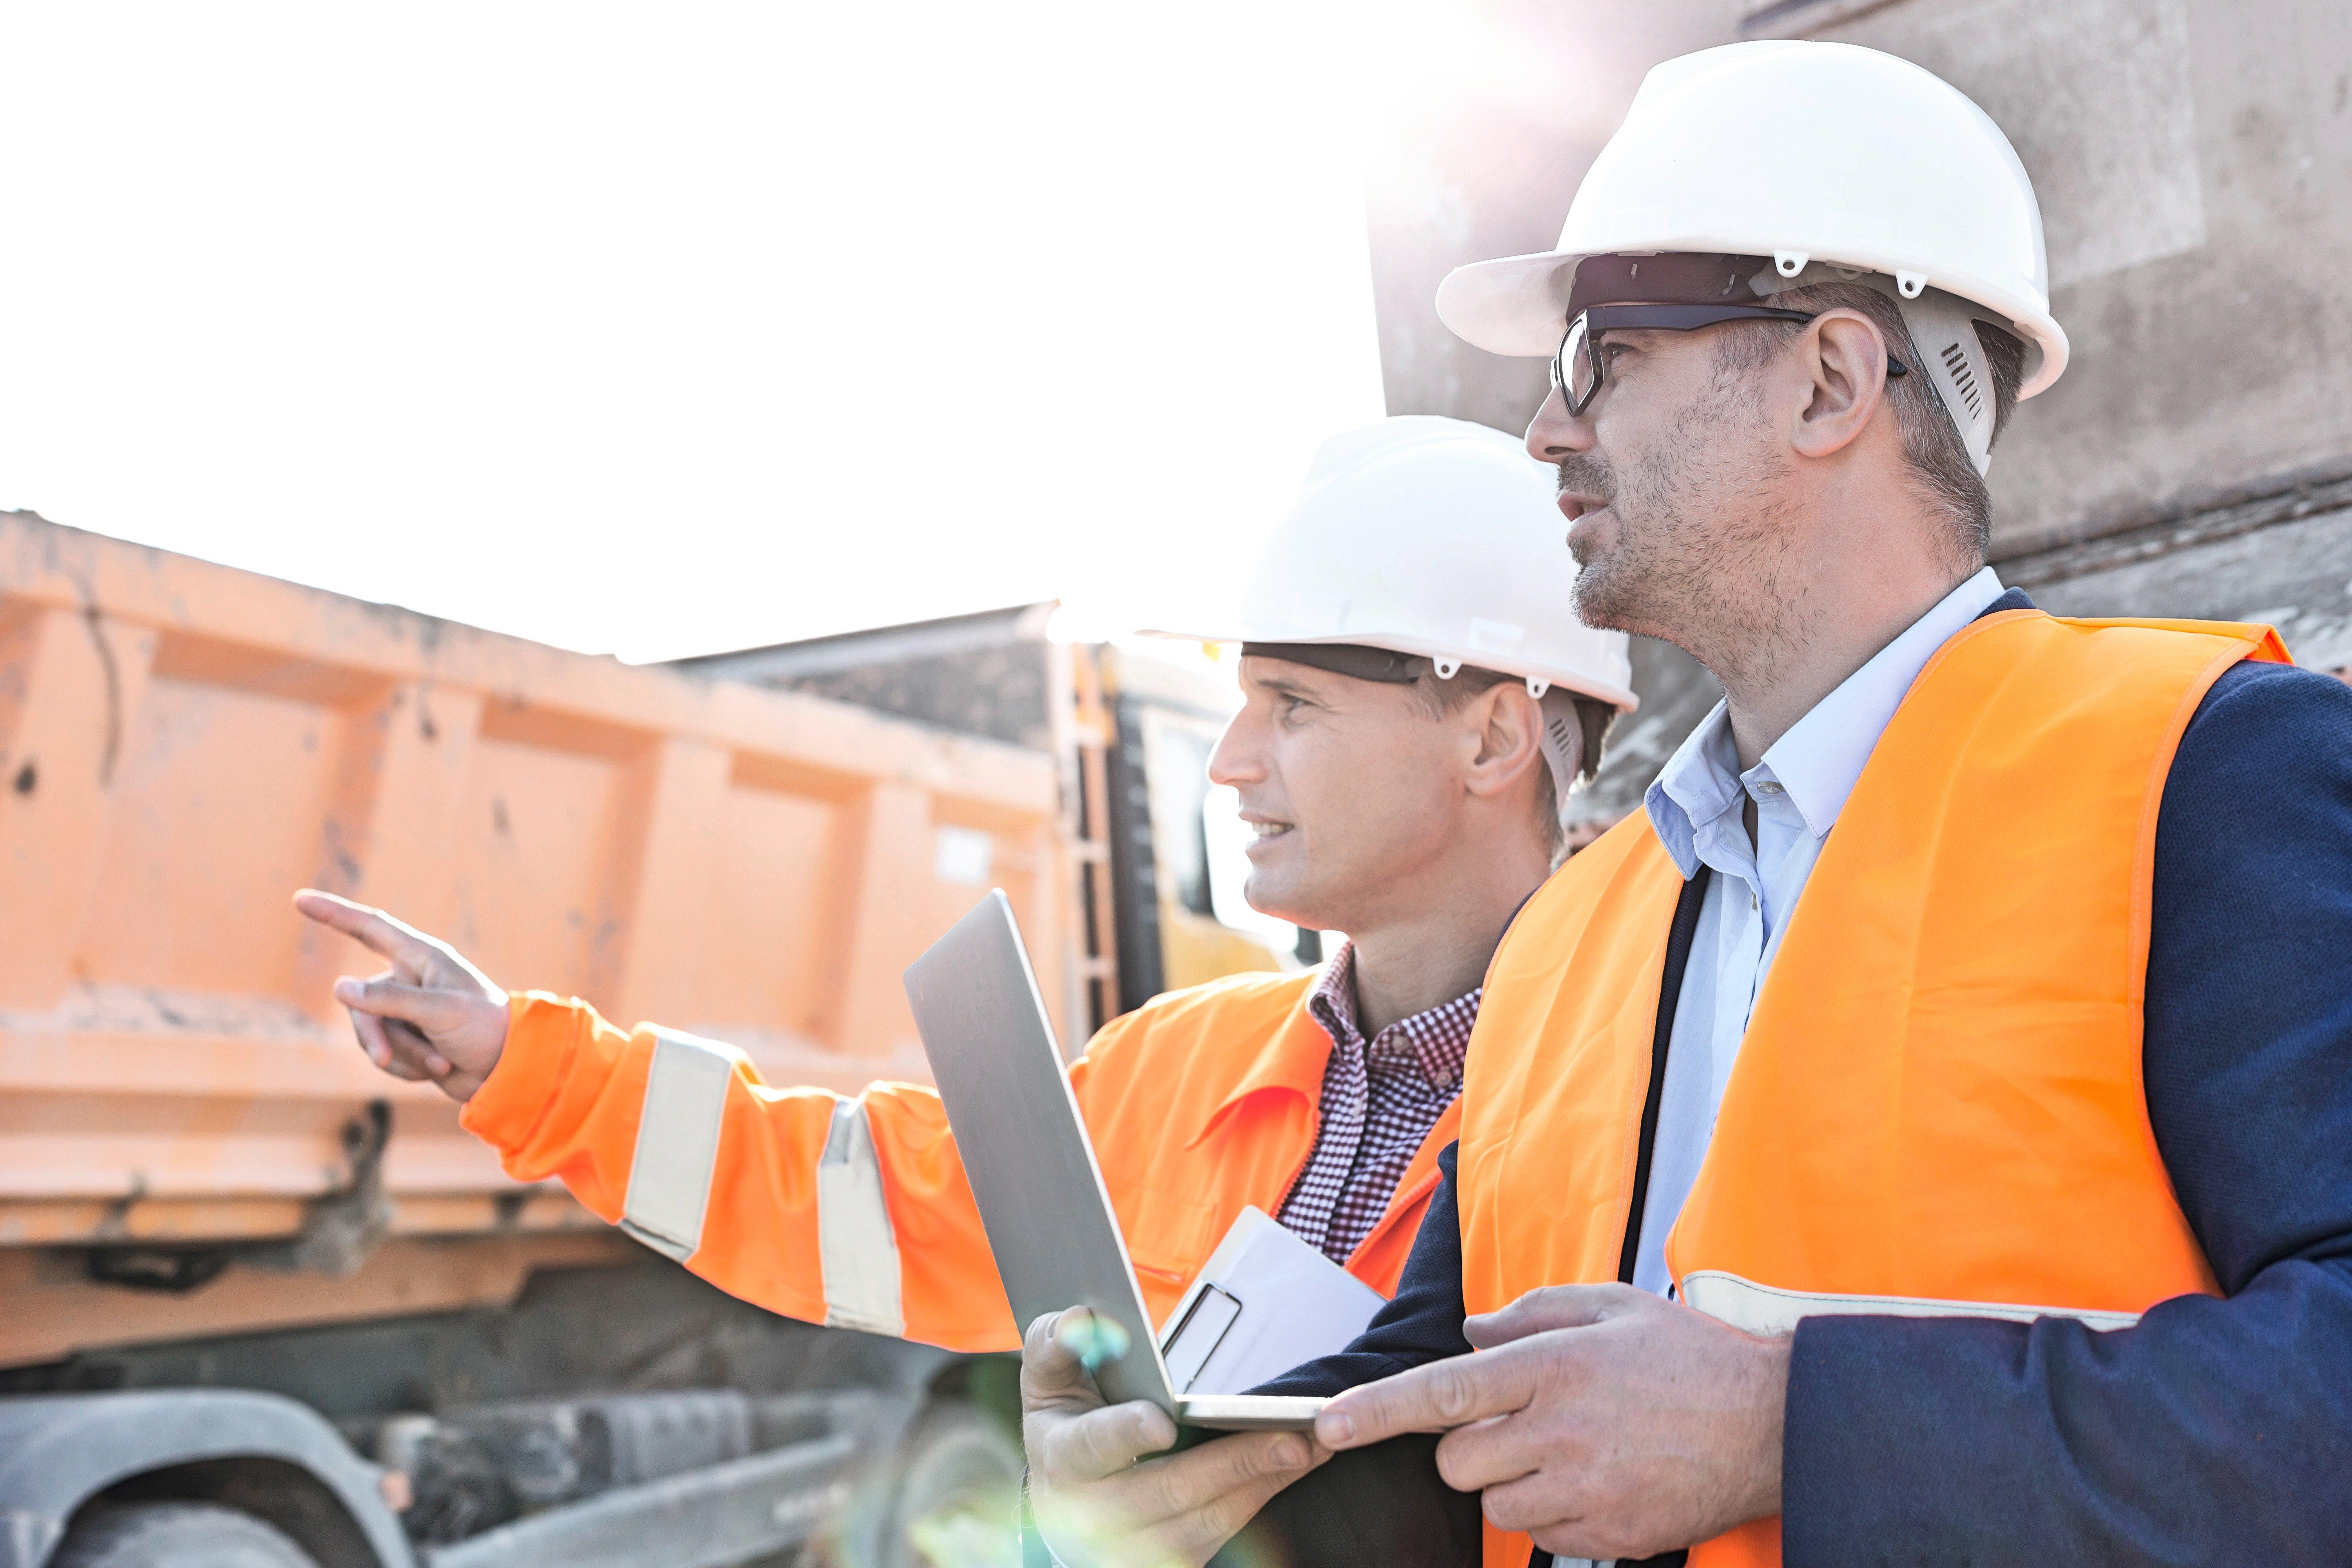helmet: (1420, 22, 2087, 414), (1129, 429, 1575, 706)
person: (1443, 24, 2262, 1568), (1084, 494, 1579, 1568)
vest: (1497, 604, 2335, 1466)
